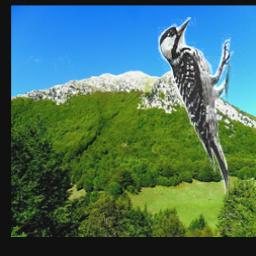Woodpecker: (157, 17, 233, 198)
